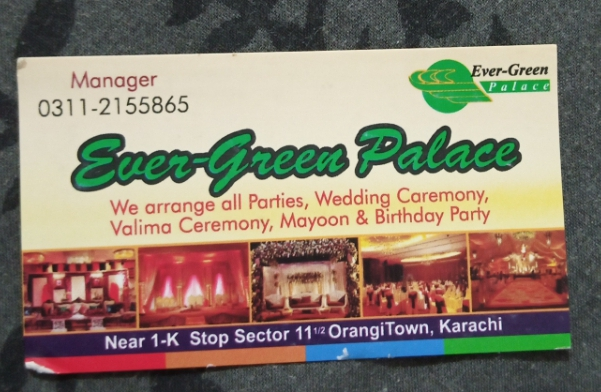alphabetical: (64, 62, 173, 94)
numerical: (34, 93, 198, 117)
